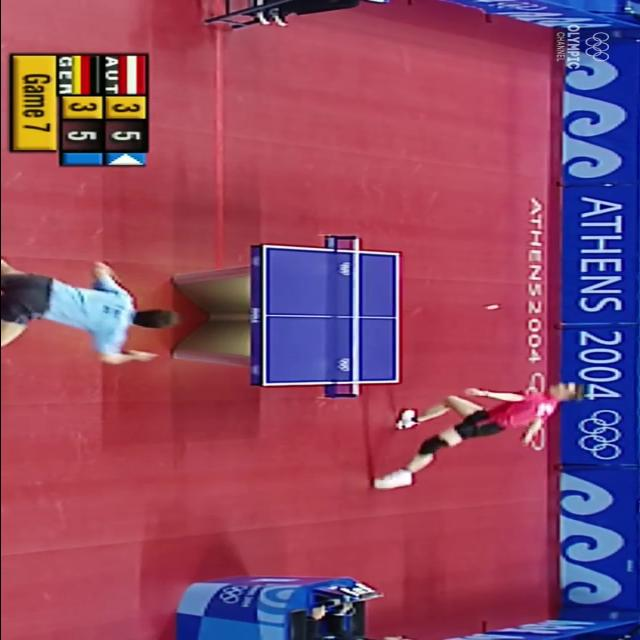NonViolence: (369, 378, 585, 489), (0, 251, 177, 365)
